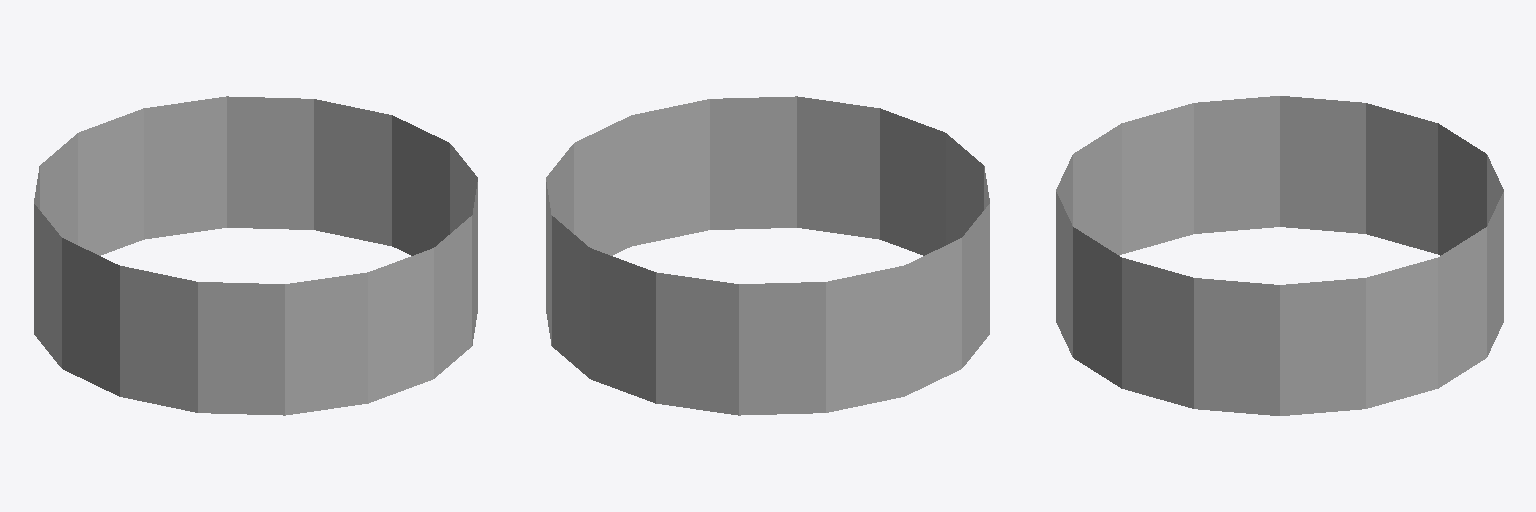
The model's file is cylinder_inside.obj.
3 views of the same model, side by side, from view 1: azimuth 30°, elevation 25°; view 2: azimuth 150°, elevation 25°; view 3: azimuth 270°, elevation 25° (orthographic).
Parts seen in each view (by area): view 1: flat_torus_walls.001_Cube.008; view 2: flat_torus_walls.001_Cube.008; view 3: flat_torus_walls.001_Cube.008.
Part boxes in pixels (x1,y1,x2,y2): flat_torus_walls.001_Cube.008: (34,96,477,415); flat_torus_walls.001_Cube.008: (546,96,989,415); flat_torus_walls.001_Cube.008: (1056,96,1503,415).
Bounding box in the file's own units: 3.09 × 1 × 3.09.